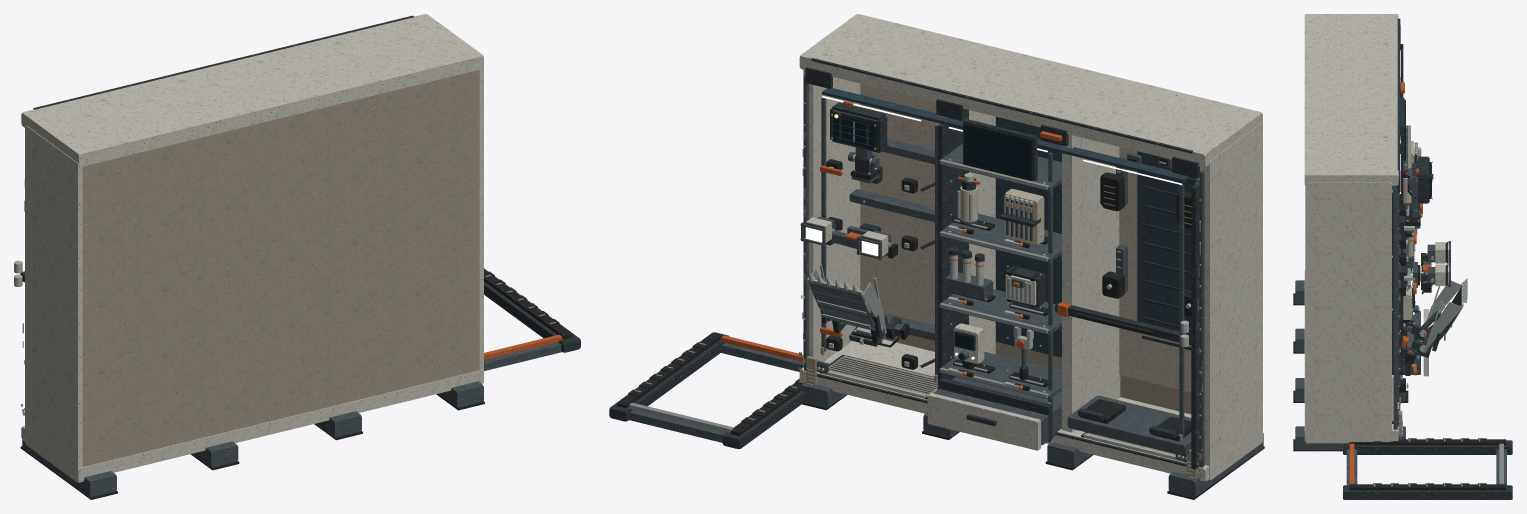
The model's file is eva_station.glb.
The picture shows the model from 3 angles, left to right: view 1: azimuth 30°, elevation 25°; view 2: azimuth 150°, elevation 25°; view 3: azimuth 270°, elevation 25°; orthographic projection. The views are drawn at different scales.
Visible parts, largest first — view 1: one_piece_rear_plate_warm_panel, top_bottom_crossrail_top_rover_white, full_height_upright_outer_l_rover_white, top_bottom_crossrail_bottom_rover_white, full_height_upright_outer_r_rover_white, sled_cradle_track_2.11_graphite, base_foot_-1.235_dark_alloy, crossrail_edge_top_graphite, sled_cradle_crossbar_-0.02_dark_alloy, base_foot_-0.42_dark_alloy, base_foot_0.41_dark_alloy, base_foot_1.23_dark_alloy (+2 smaller); view 2: top_bottom_crossrail_top_rover_white, full_height_upright_outer_l_rover_white, full_height_upright_suit_gear_partition_rover_white, gary_back_panel_warm_shell, full_height_upright_outer_r_rover_white, suit_pressure_backplane_slate_panel_slate_panel, top_bottom_crossrail_bottom_rover_white, single_suit_backboard_warm_shell_warm_shell, tool_bay_dust_backplate_slate_panel, deep_corner_support_gear_graphite, drawer_face_rover_white, suit_bottom_foot_rail_dark_alloy_dark_alloy (+37 smaller); view 3: full_height_upright_outer_r_rover_white, top_bottom_crossrail_top_rover_white, sled_cradle_track_2.11_graphite, sled_cradle_track_1.35_graphite, edge_channel_right_dark_alloy, sled_rail_top_2.11_black_rubber, deep_corner_support_gear_graphite, sled_rail_top_1.35_black_rubber, base_foot_1.23_dark_alloy, crossrail_edge_top_graphite, middle_access_seam_end_dark_alloy, Fitted_Scoop_side_cheek_1_alloy (+9 smaller).
Boxes of the visible parts, x1,y1,x2,y2 form: one_piece_rear_plate_warm_panel: [82, 70, 479, 466]; top_bottom_crossrail_top_rover_white: [21, 14, 483, 166]; full_height_upright_outer_l_rover_white: [25, 125, 83, 482]; top_bottom_crossrail_bottom_rover_white: [21, 369, 483, 480]; full_height_upright_outer_r_rover_white: [479, 67, 483, 384]; sled_cradle_track_2.11_graphite: [484, 268, 580, 352]; base_foot_-1.235_dark_alloy: [22, 440, 116, 496]; crossrail_edge_top_graphite: [33, 15, 414, 109]; sled_cradle_crossbar_-0.02_dark_alloy: [484, 342, 561, 370]; base_foot_-0.42_dark_alloy: [192, 441, 238, 467]; base_foot_0.41_dark_alloy: [315, 411, 361, 437]; base_foot_1.23_dark_alloy: [438, 381, 483, 407]; top_bottom_crossrail_top_rover_white: [799, 14, 1262, 167]; full_height_upright_outer_l_rover_white: [1200, 123, 1262, 480]; full_height_upright_suit_gear_partition_rover_white: [1062, 134, 1120, 432]; gary_back_panel_warm_shell: [860, 83, 936, 325]; full_height_upright_outer_r_rover_white: [803, 69, 860, 366]; suit_pressure_backplane_slate_panel_slate_panel: [1137, 151, 1196, 344]; top_bottom_crossrail_bottom_rover_white: [799, 339, 1209, 481]; single_suit_backboard_warm_shell_warm_shell: [1119, 147, 1191, 392]; tool_bay_dust_backplate_slate_panel: [996, 116, 1061, 357]; deep_corner_support_gear_graphite: [938, 109, 968, 389]; drawer_face_rover_white: [927, 393, 1041, 450]; suit_bottom_foot_rail_dark_alloy_dark_alloy: [1067, 395, 1191, 455]; full_height_upright_outer_r_rover_white: [1305, 182, 1391, 443]; top_bottom_crossrail_top_rover_white: [1304, 14, 1398, 185]; sled_cradle_track_2.11_graphite: [1343, 485, 1512, 499]; sled_cradle_track_1.35_graphite: [1343, 440, 1512, 454]; edge_channel_right_dark_alloy: [1393, 188, 1397, 429]; sled_rail_top_2.11_black_rubber: [1349, 484, 1506, 490]; deep_corner_support_gear_graphite: [1392, 144, 1403, 374]; sled_rail_top_1.35_black_rubber: [1349, 439, 1506, 445]; base_foot_1.23_dark_alloy: [1295, 426, 1405, 450]; crossrail_edge_top_graphite: [1397, 18, 1400, 170]; middle_access_seam_end_dark_alloy: [1397, 195, 1399, 401]; Fitted_Scoop_side_cheek_1_alloy: [1423, 302, 1462, 352].
Bounding box in the file's own units: 3.53 × 2.2 × 1.56.
Materials: 14 (14 with a texture image).
